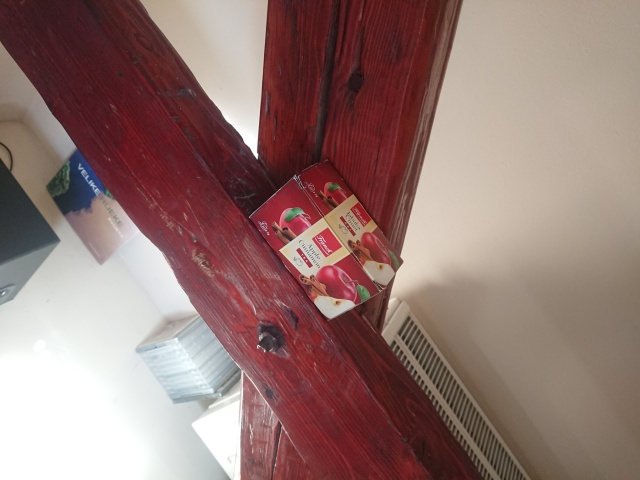Franck Apple Cinnamon Tea 60g: (245, 156, 404, 323)
